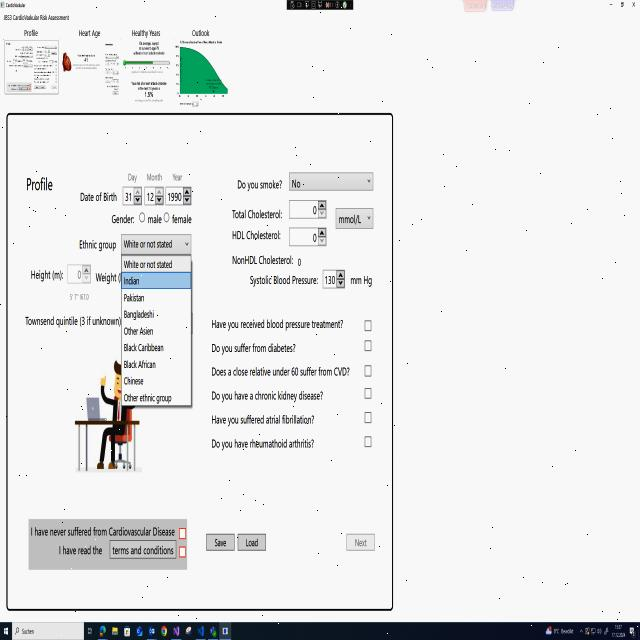button: (107, 538, 177, 561), (237, 528, 270, 557), (203, 529, 236, 555), (346, 530, 376, 554), (614, 0, 627, 13), (627, 0, 640, 12), (605, 0, 614, 13)
checkbox: (363, 382, 374, 404), (362, 408, 374, 428), (361, 432, 372, 452), (363, 362, 375, 379), (178, 544, 190, 560), (178, 524, 188, 542), (364, 317, 373, 335), (364, 338, 374, 354)
dropdownMenu: (118, 231, 194, 408), (287, 168, 376, 198), (334, 206, 377, 232), (554, 627, 584, 635)
icon: (172, 625, 180, 637), (210, 625, 217, 638), (629, 626, 636, 639), (99, 625, 106, 637), (136, 625, 143, 637), (185, 625, 192, 637), (198, 625, 205, 637), (148, 625, 155, 636), (124, 625, 130, 637), (161, 625, 167, 637), (545, 625, 552, 635), (112, 626, 118, 636), (584, 626, 590, 636), (222, 627, 228, 635), (4, 626, 8, 636), (88, 626, 92, 636), (604, 626, 608, 636), (597, 628, 602, 636), (591, 627, 595, 635)
input: (12, 622, 84, 640)
label: (205, 387, 332, 409), (28, 519, 176, 537), (206, 363, 353, 381), (206, 434, 320, 457), (204, 411, 321, 432), (205, 317, 347, 333), (21, 311, 118, 330), (210, 341, 304, 357), (241, 272, 320, 290), (21, 167, 60, 203), (225, 254, 309, 270), (55, 537, 105, 562), (0, 9, 75, 25), (226, 172, 284, 192), (229, 227, 286, 247), (75, 183, 118, 209), (223, 205, 284, 221), (74, 234, 117, 256), (26, 264, 64, 286), (347, 272, 383, 293), (103, 210, 135, 229), (182, 20, 214, 38), (172, 209, 196, 230), (94, 267, 118, 285), (66, 289, 92, 305), (128, 28, 164, 39), (71, 26, 103, 38), (120, 167, 138, 184), (19, 24, 40, 38), (146, 167, 163, 182), (171, 166, 184, 182), (147, 213, 163, 224)
menu: (0, 622, 640, 640)
menuItem: (120, 255, 174, 272), (124, 392, 177, 408), (124, 343, 166, 355), (123, 310, 158, 324), (120, 359, 160, 371), (122, 327, 156, 340), (124, 293, 148, 307), (122, 376, 147, 388), (122, 276, 139, 292)
radio: (138, 211, 146, 223), (163, 211, 170, 224)
upDown: (288, 223, 328, 251), (288, 198, 328, 219), (66, 261, 92, 286), (322, 266, 346, 292), (165, 184, 193, 206), (144, 184, 165, 207), (122, 186, 143, 207)
